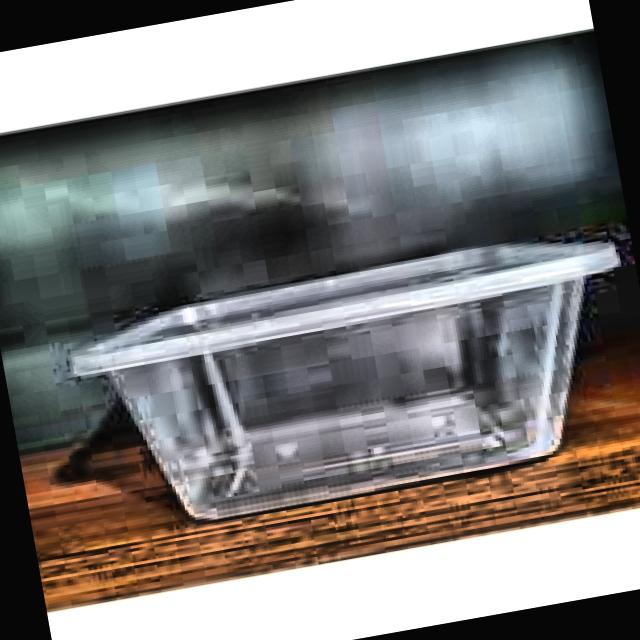plastic container: (73, 244, 617, 520)
